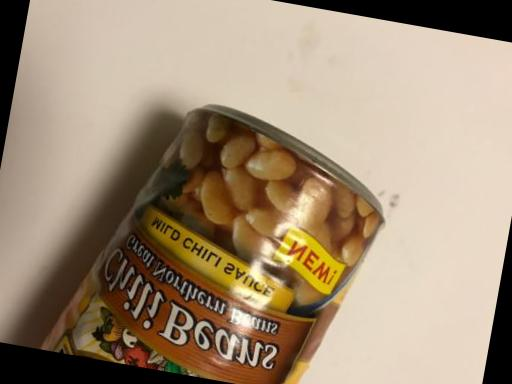metal: (0, 64, 418, 384)
